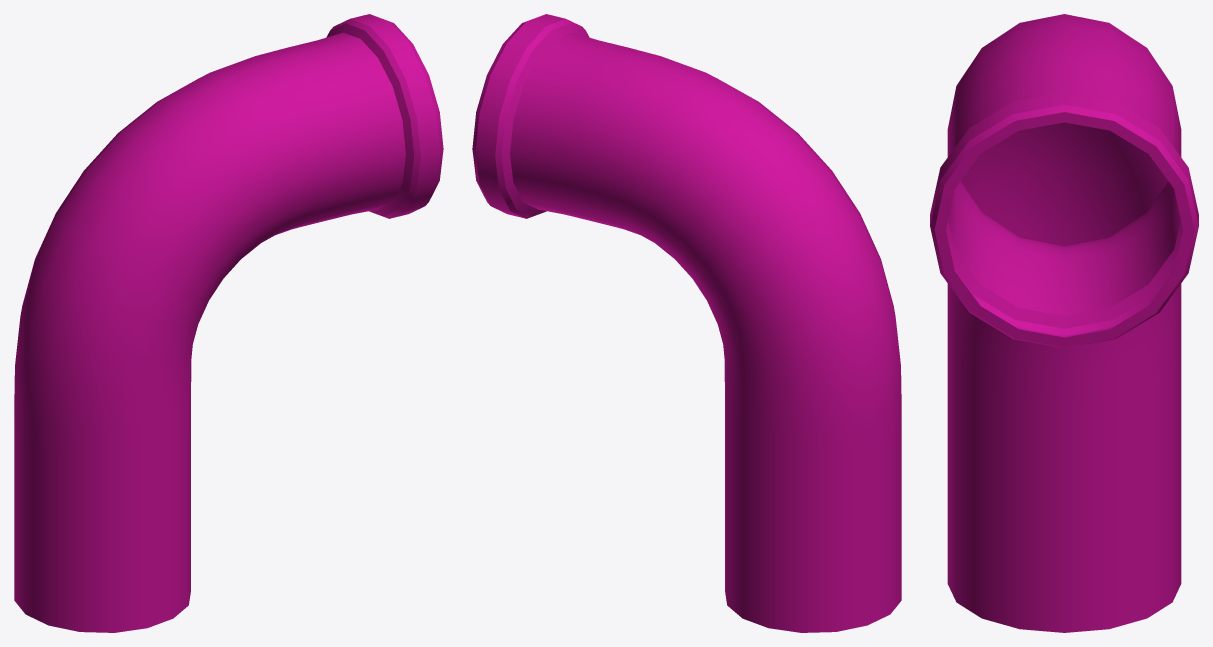
Rendered from SM_Pipe_Bend.fbx.
The picture shows the model from 3 angles, left to right: view 1: azimuth 30°, elevation 25°; view 2: azimuth 150°, elevation 25°; view 3: azimuth 270°, elevation 25°; orthographic projection. The views are drawn at different scales.
Parts seen in each view (by area): view 1: Bend; view 2: Bend; view 3: Bend.
Part boxes in pixels (x1,y1,x2,y2): Bend: (14, 14, 443, 632); Bend: (472, 14, 901, 632); Bend: (930, 14, 1198, 632).
Bounding box in the file's own units: 61.95 × 80.97 × 29.79.
